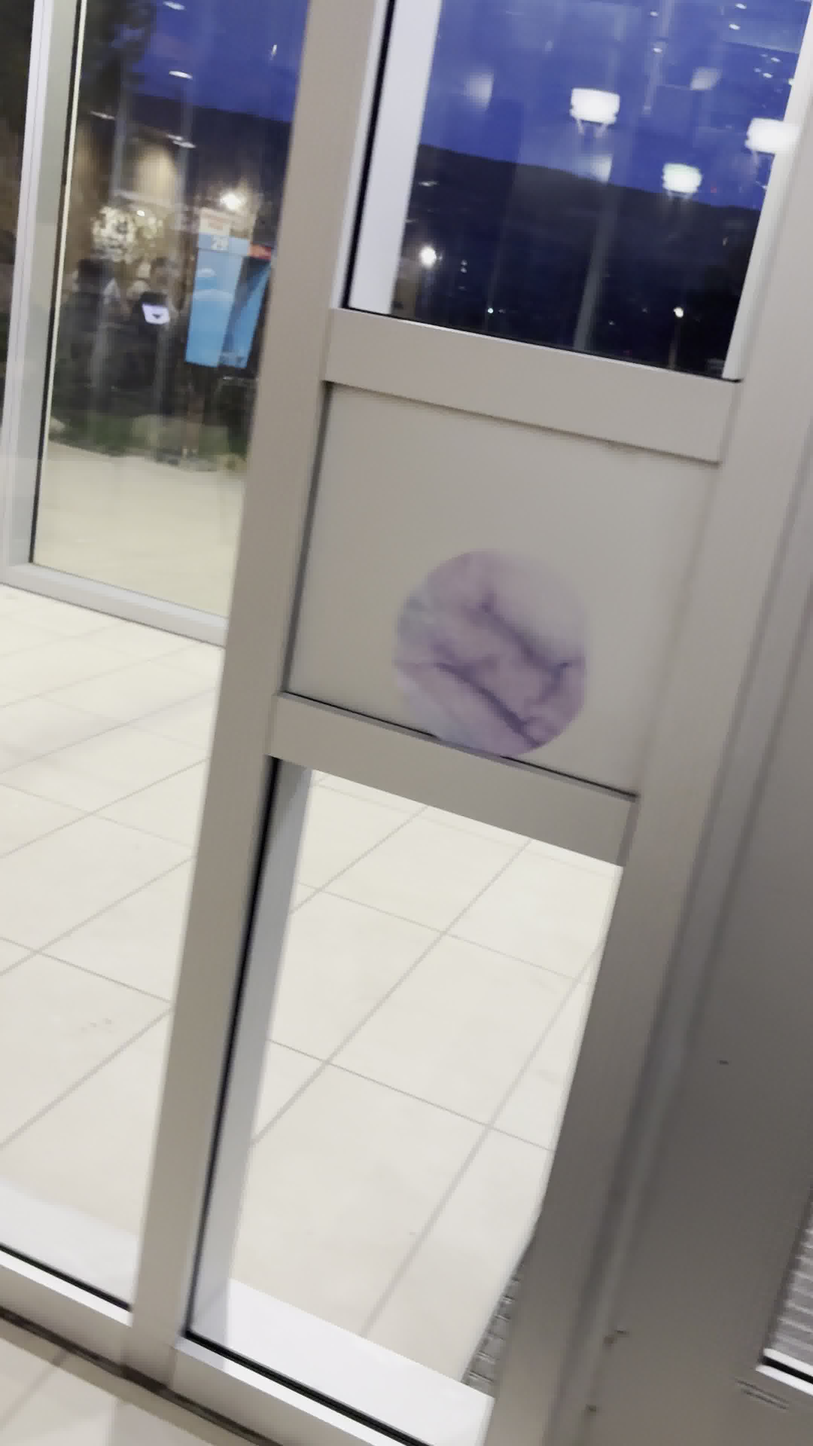Target: (388, 545, 595, 760)
